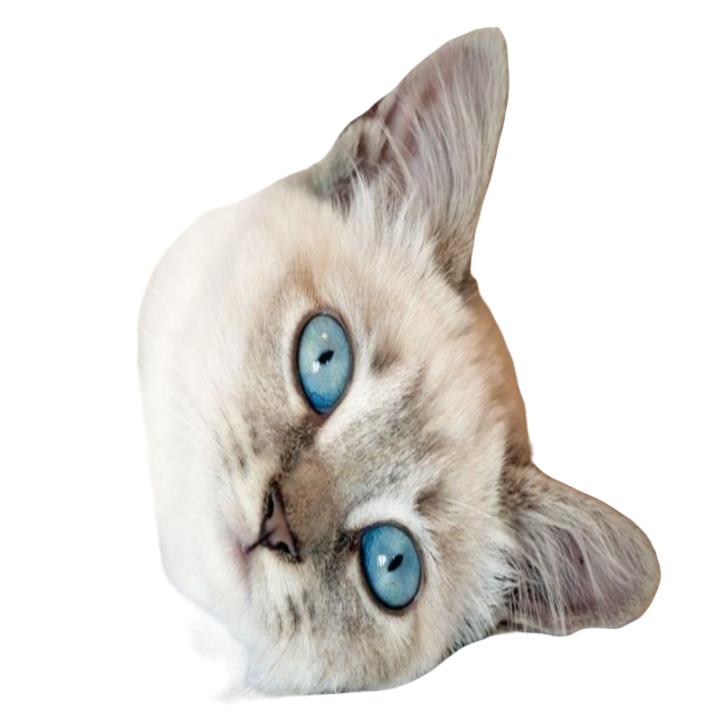Cat: (101, 22, 664, 705)
